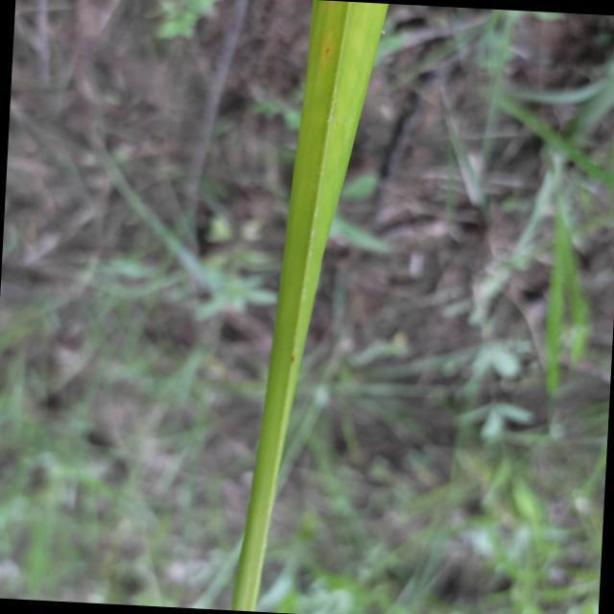nitrogen: (222, 0, 387, 614)
